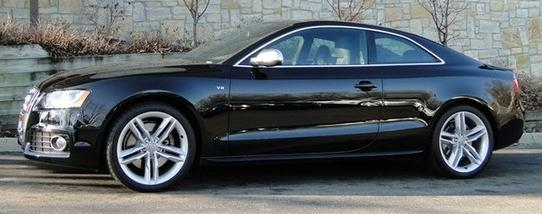front_view: (15, 88, 99, 161)
headlight: (34, 85, 90, 113)
side_glass: (241, 24, 442, 70)
